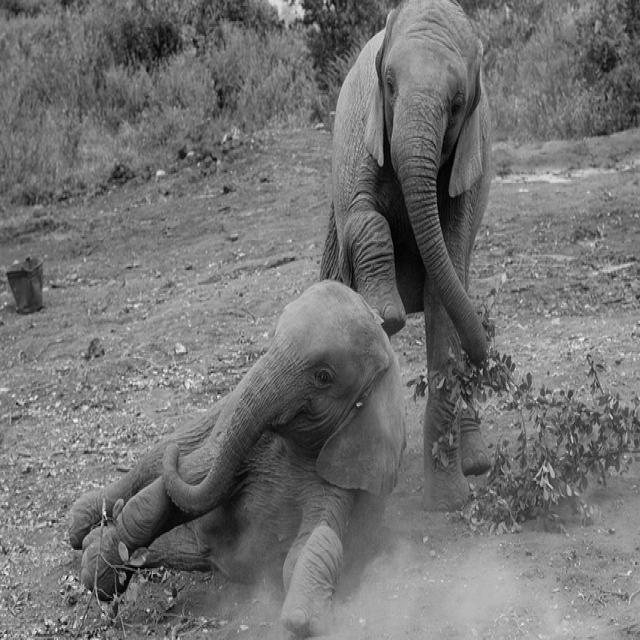Elephant: (67, 277, 407, 637), (319, 0, 493, 511)
